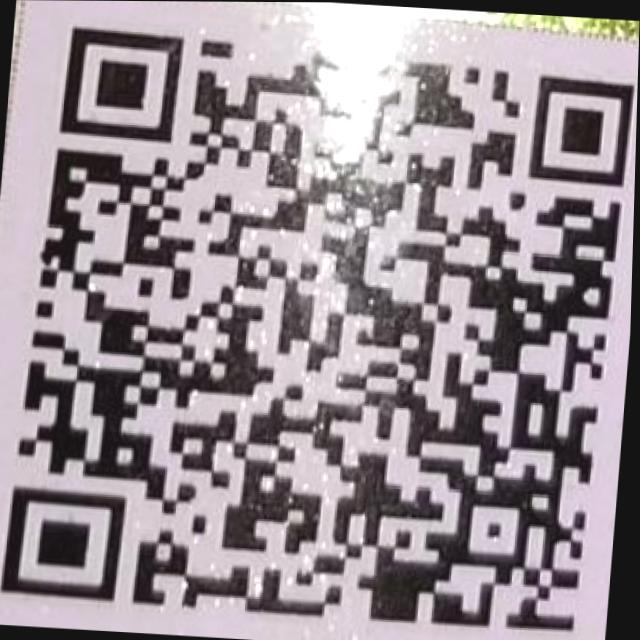QR_CODE: (0, 23, 639, 633)
